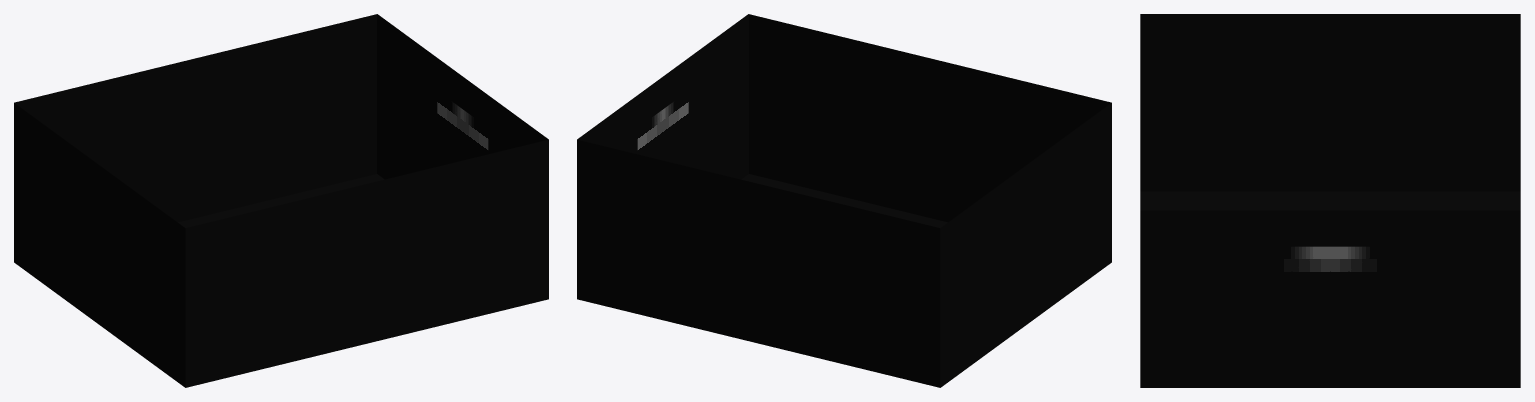
3 renders of one model, left to right at view 1: azimuth 30°, elevation 25°; view 2: azimuth 150°, elevation 25°; view 3: azimuth 270°, elevation 25°, orthographic. The views are drawn at different scales.
Parts seen in each view (by area): view 1: Joint_0_Object_0, Joint_0_Object_1; view 2: Joint_0_Object_0, Joint_0_Object_1; view 3: Joint_0_Object_0.
Part boxes in pixels (x1,y1,x2,y2): Joint_0_Object_0: (14,14,548,387); Joint_0_Object_1: (377,14,547,179); Joint_0_Object_0: (577,14,1111,387); Joint_0_Object_1: (578,14,748,179); Joint_0_Object_0: (1140,14,1520,387).
Bounding box in the file's own units: 1114 × 468 × 911.
